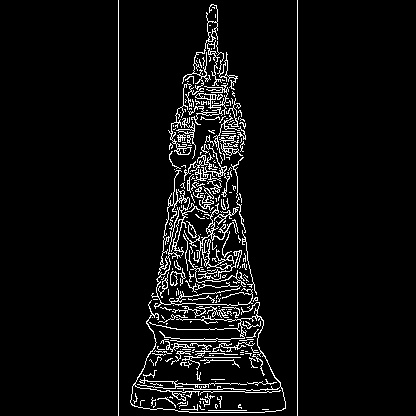buddha-sitting: (148, 143, 262, 339)
